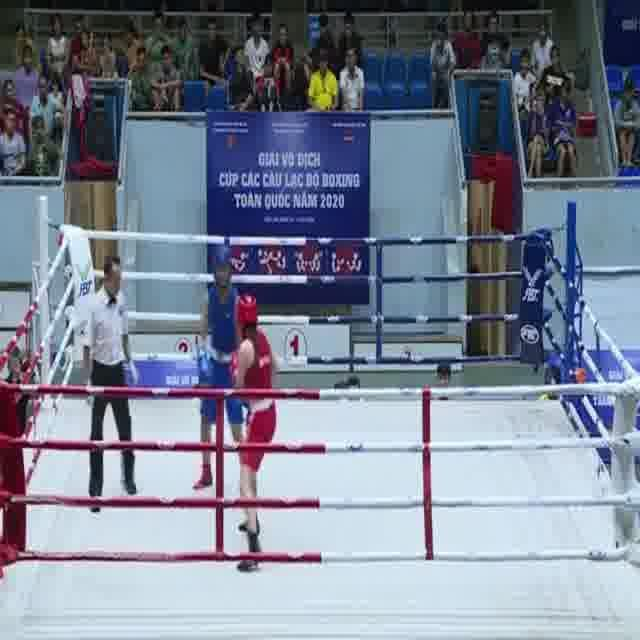blue-player: (194, 246, 260, 494)
red-player: (226, 289, 279, 575)
referee: (79, 255, 140, 515)
